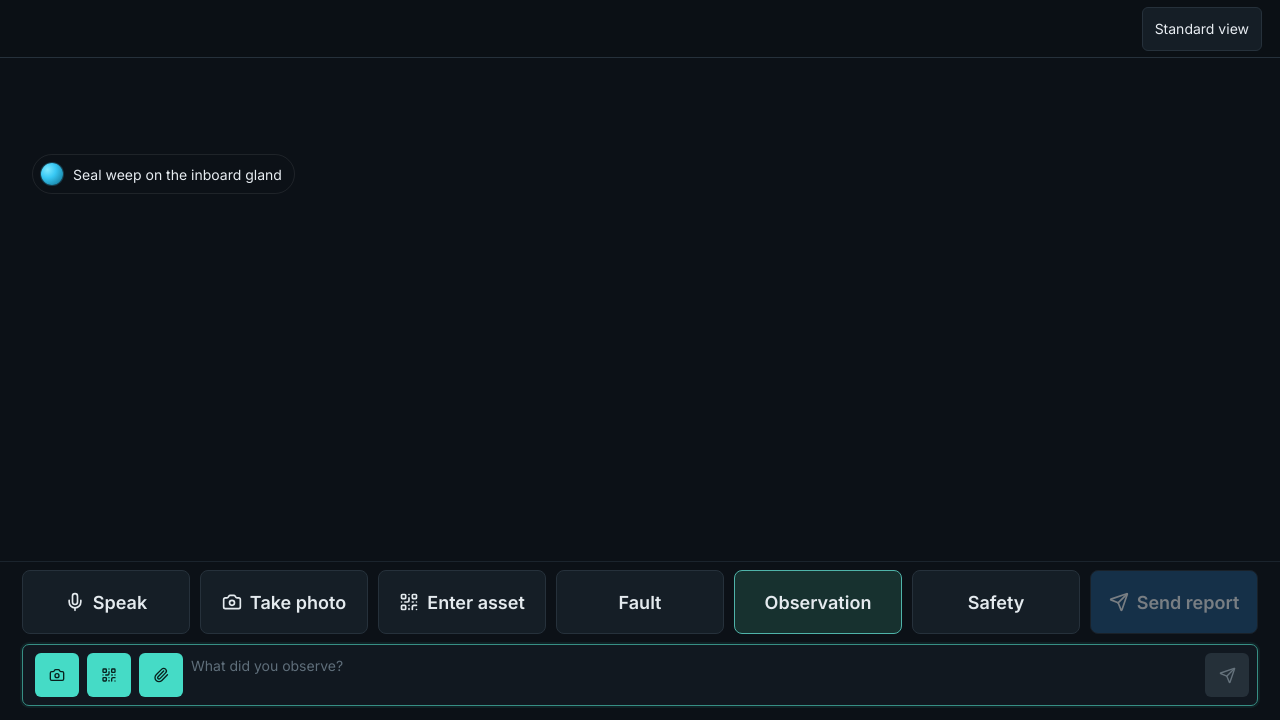
FieldPage › surfaces a filing error as a not-filed turn
This screenshot has width=1280, height=720.
Check: the text box with placeholder "What did you observe?" is shown, box [191,655,1197,697]
Click the button "Enter asset" at (462, 602), box [378,570,546,634]
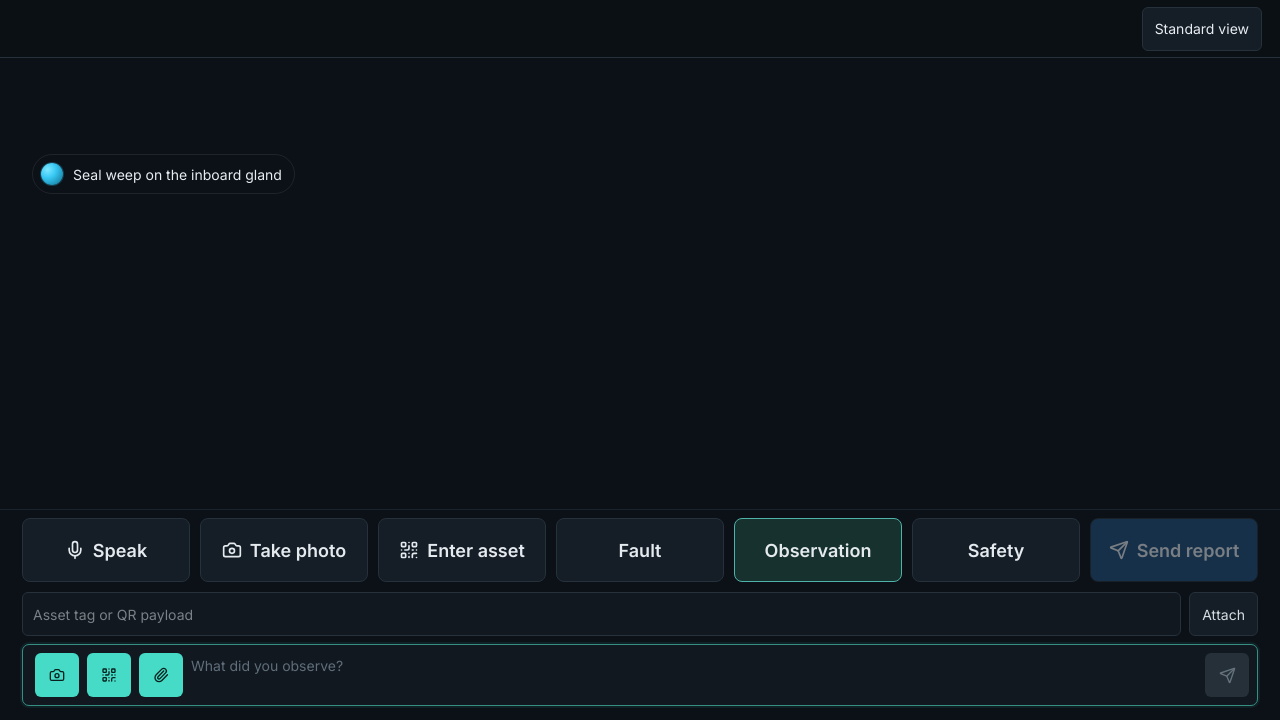
Type "3f2a9c1e-8b7d-4e6f-9a1b-2c3d4e5f6a7b" into the field labelled "Asset tag or QR payload" at (602, 614), box [22,592,1181,636]
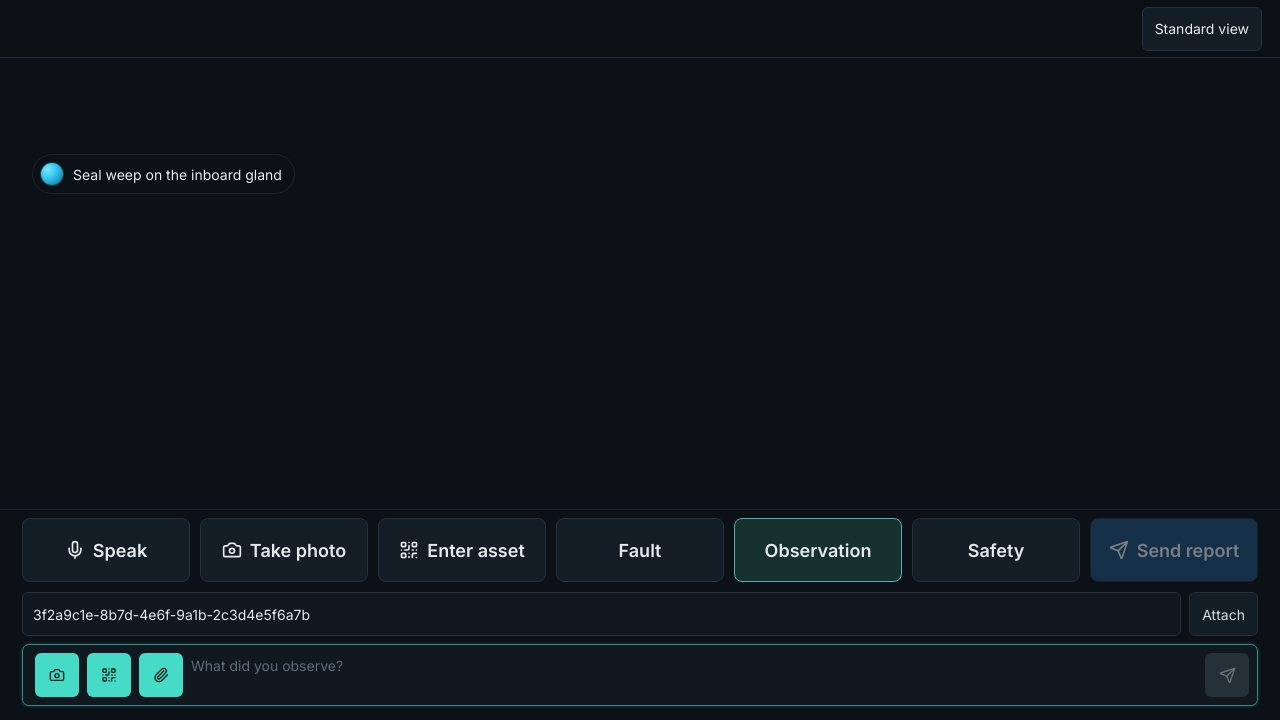
Click the button "Attach" at (1224, 614), box [1189,592,1258,636]
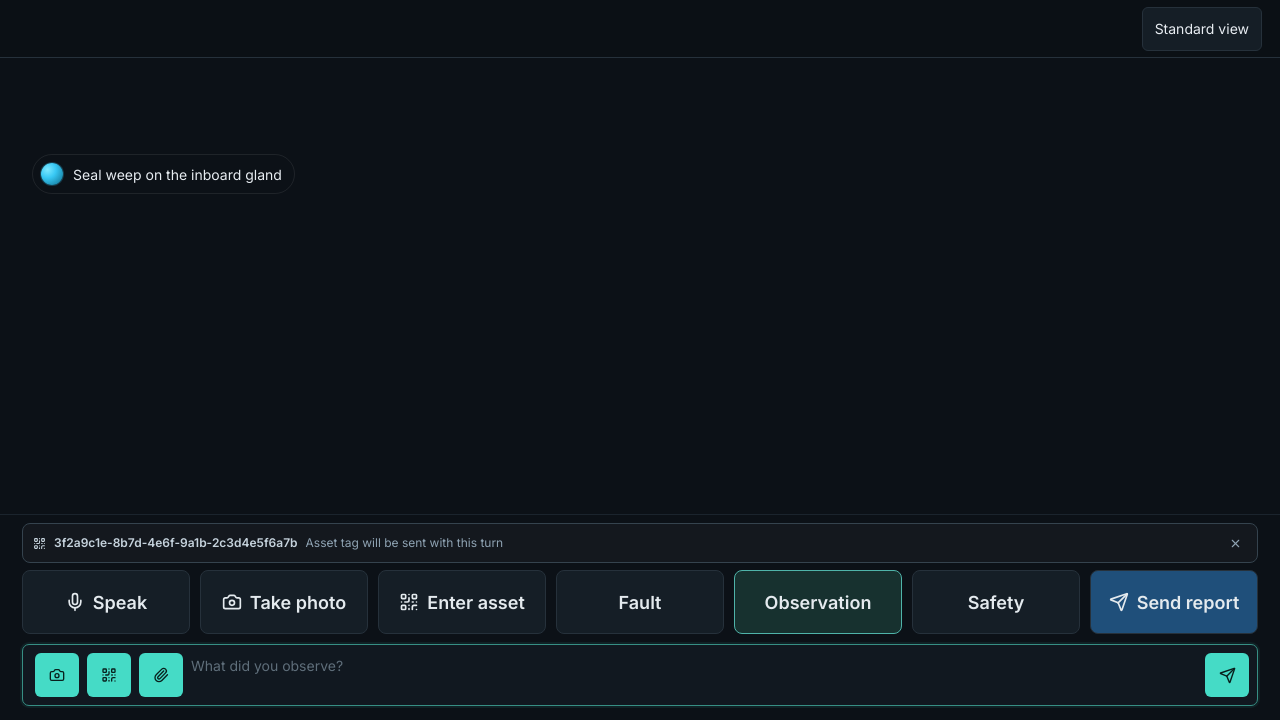
Type "Belt tracking off" into the text box with placeholder "What did you observe?" at (694, 676), box [191,655,1197,697]
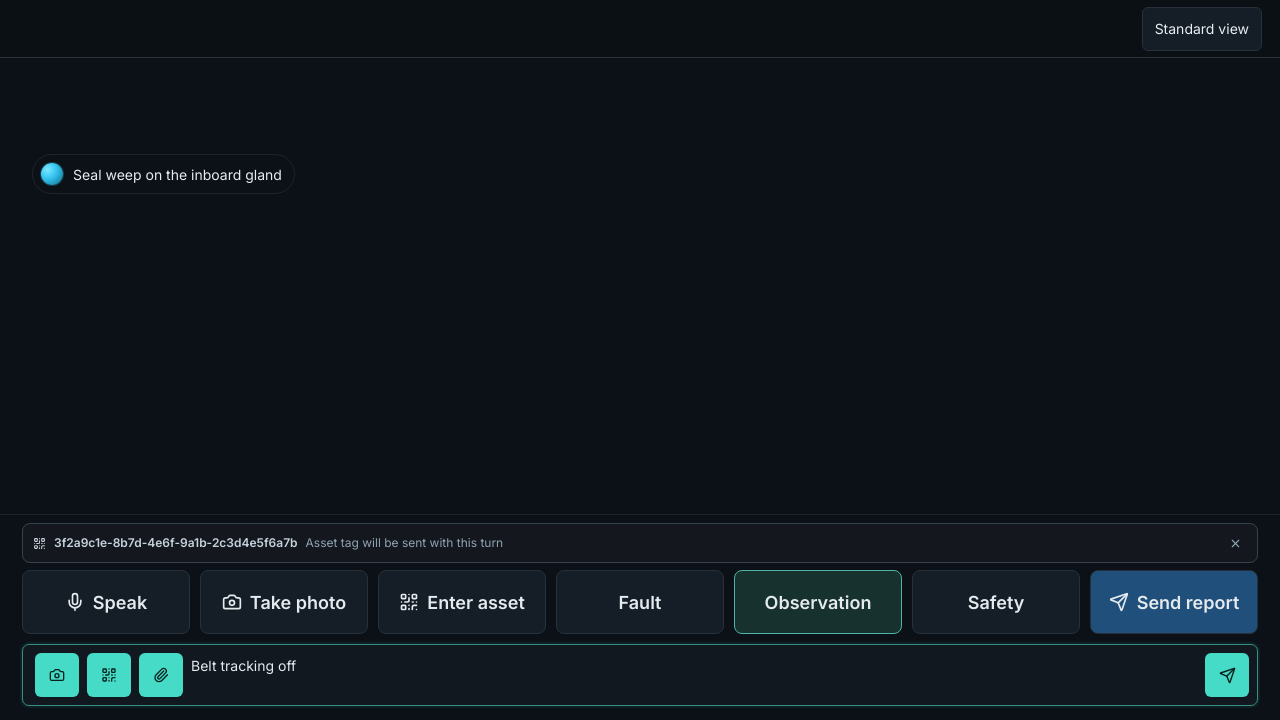
Click the button "Send report" at (1174, 602), box [1090,570,1258,634]
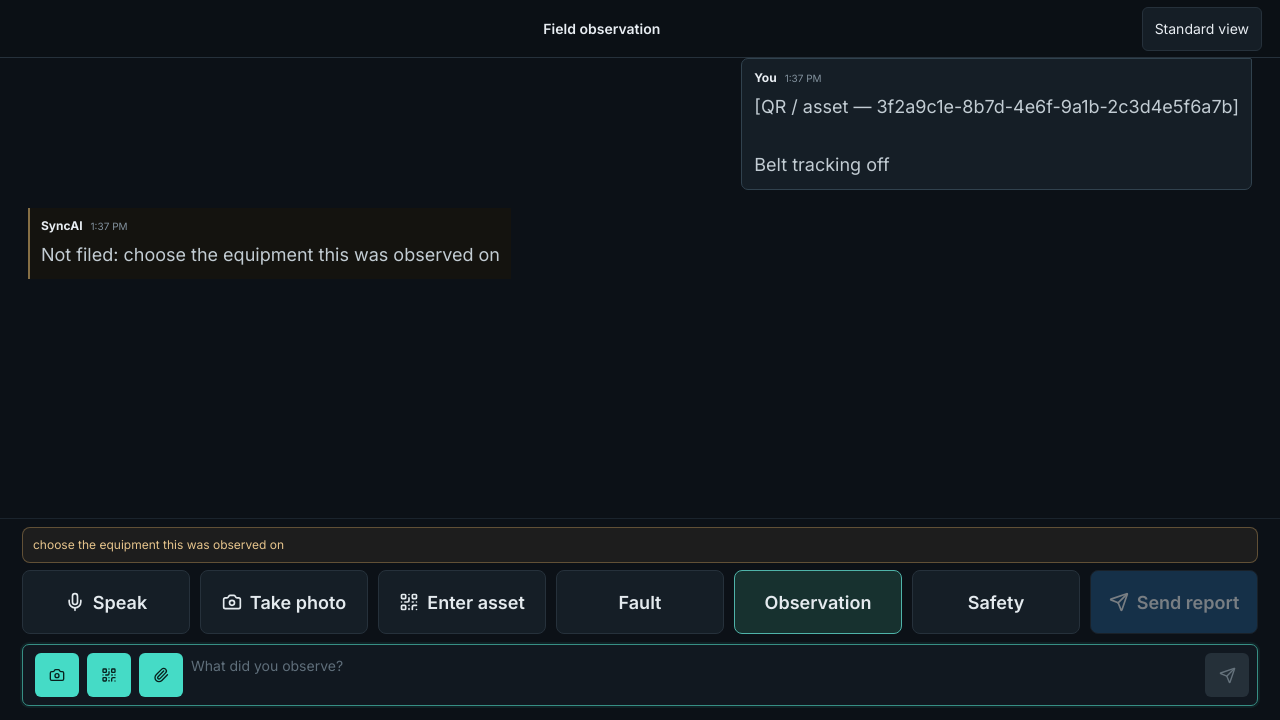
Check: the text "Not filed: choose the equipment this was observed on" is shown, box [41,241,500,270]
